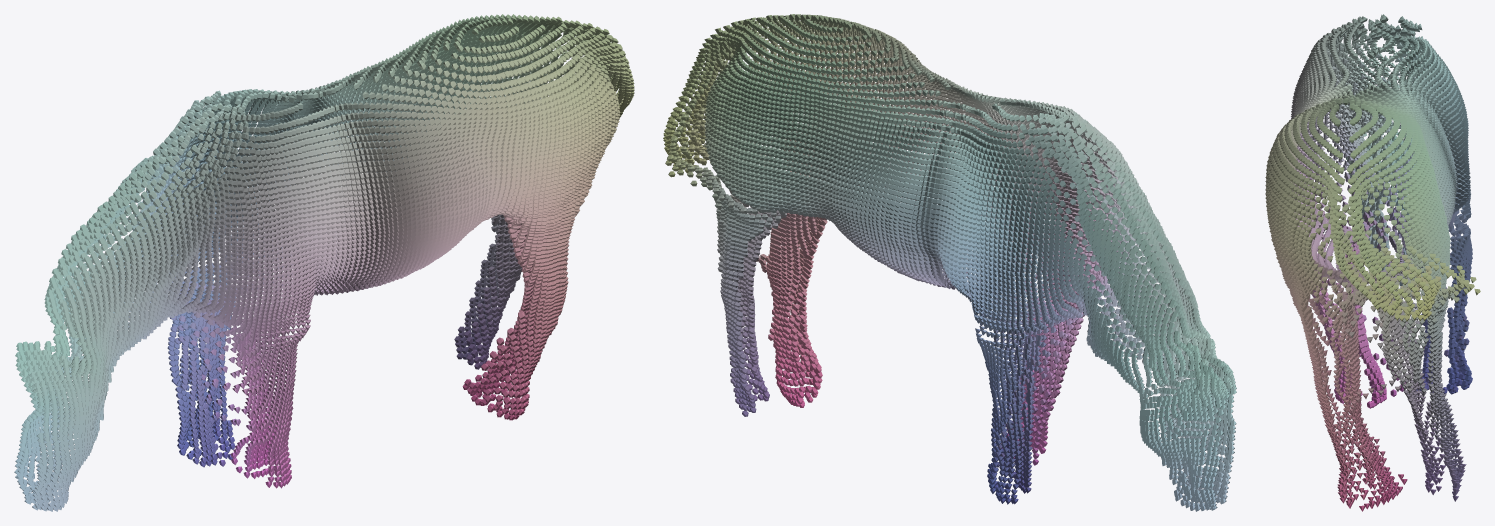
The model's file is 2008_002589_2_pcan.glb.
3 renders of one model, left to right at view 1: azimuth 30°, elevation 25°; view 2: azimuth 150°, elevation 25°; view 3: azimuth 270°, elevation 25°, orthographic. The views are drawn at different scales.
Parts seen in each view (by area): view 1: target; view 2: target; view 3: target.
Boxes of the visible parts, <box> form: target: <box>14,14,634,511</box>; target: <box>663,14,1236,511</box>; target: <box>1265,14,1480,511</box>.
Size of the model in its own units: 2.53 by 1.68 by 0.8211.
